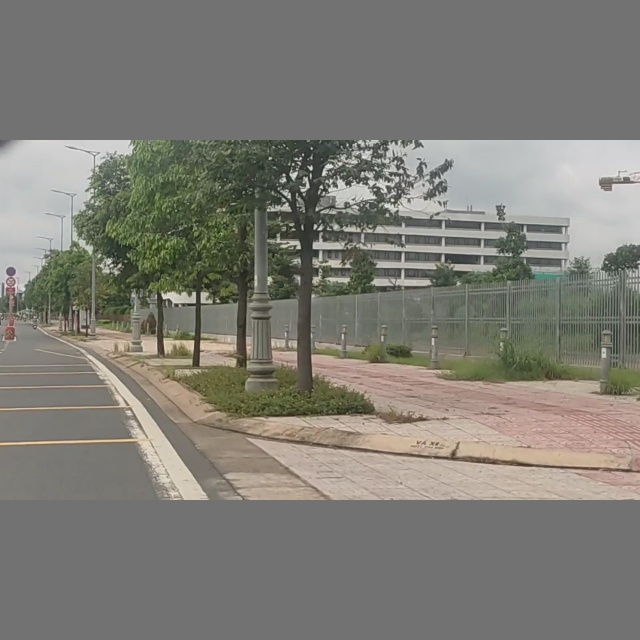P.111: (5, 278, 16, 287)
P.130: (5, 266, 17, 277)
